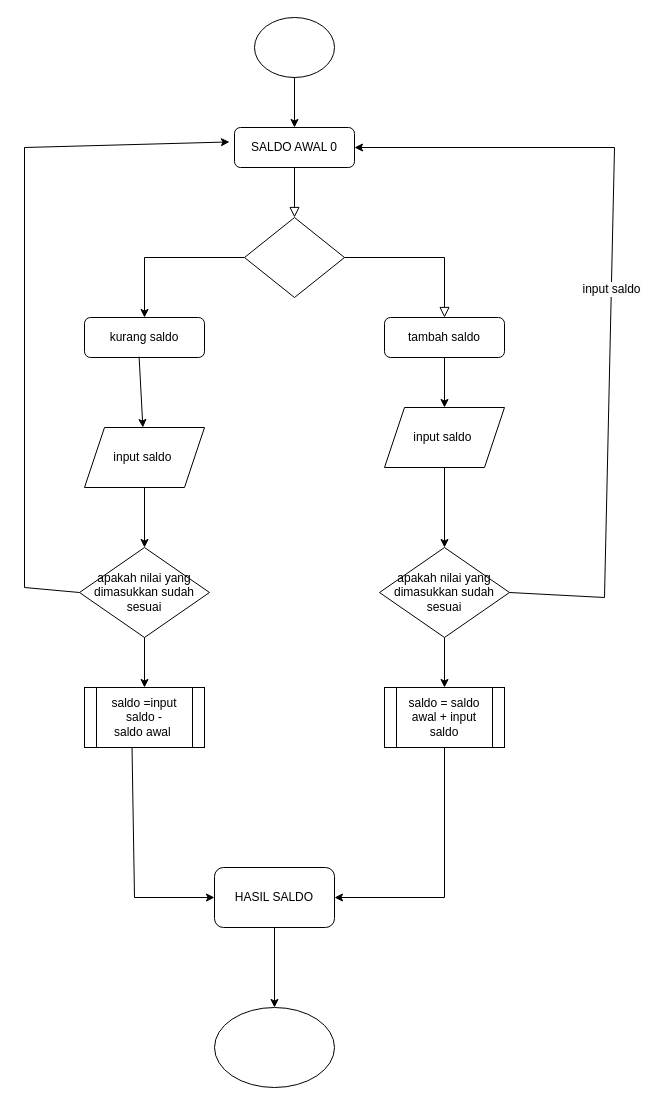
This 658x1105 diagram has some shape labels left out. Here are the shapes that lost their labels. From the top down, the box of each, then its label:
(254, 16, 334, 78): START
(244, 216, 344, 298): kodisi
(214, 1006, 334, 1088): SELESAI
